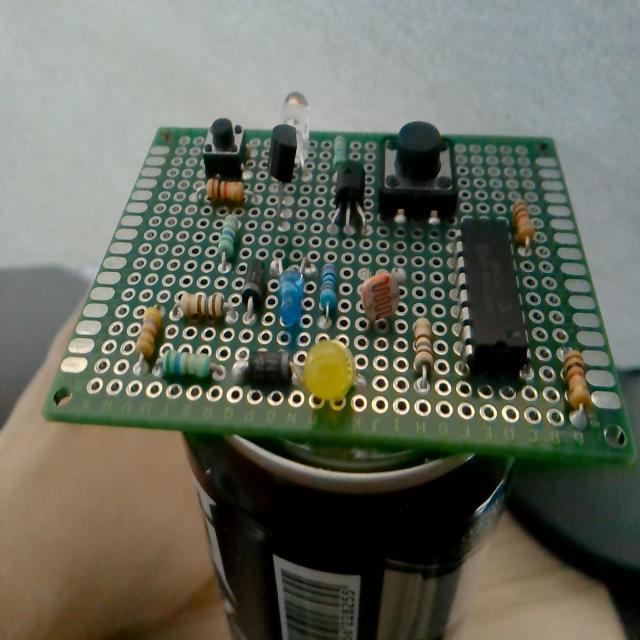IC: (460, 220, 528, 378)
cds: (359, 255, 408, 327)
diode: (233, 346, 292, 383), (242, 256, 266, 311)
led: (302, 336, 358, 406), (274, 252, 308, 327)
resistor: (564, 349, 590, 411), (412, 319, 434, 389), (163, 349, 211, 378), (136, 307, 162, 359), (180, 292, 225, 321), (218, 213, 240, 259), (206, 178, 245, 203), (512, 200, 534, 243), (319, 263, 337, 314), (329, 133, 347, 167)
switch: (379, 123, 458, 221), (202, 116, 246, 178)
transistor: (267, 125, 298, 223), (329, 164, 369, 230)
